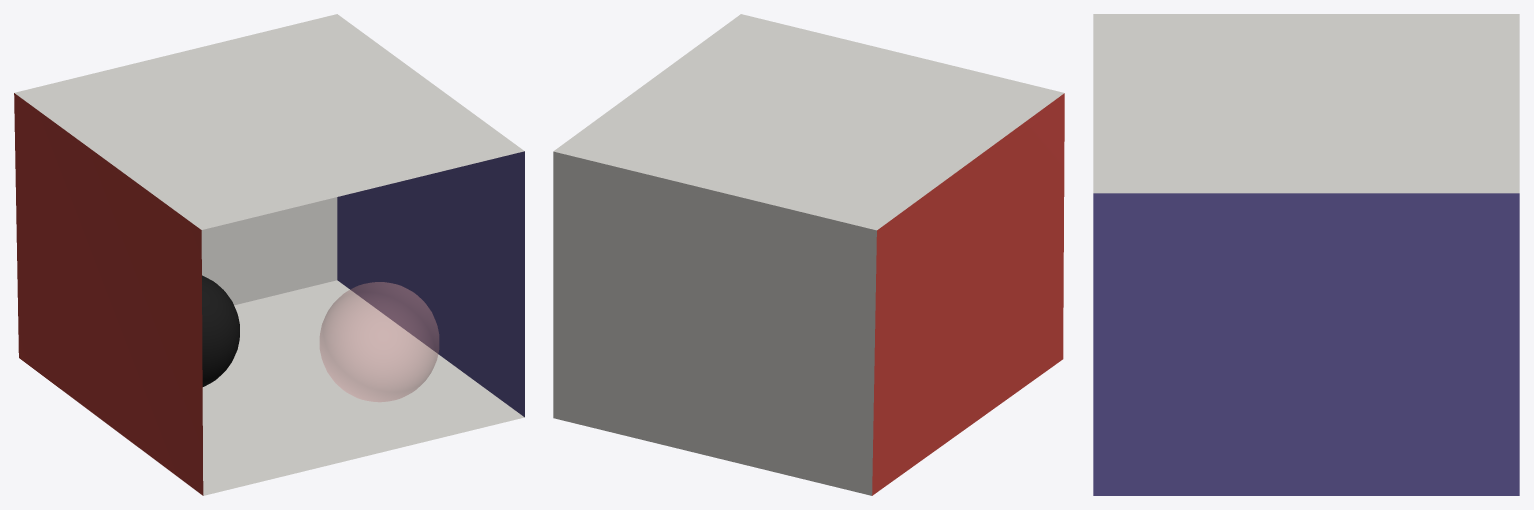
File: Cornell-Box-Spheres.gltf
3 renders of one model, left to right at view 1: azimuth 30°, elevation 25°; view 2: azimuth 150°, elevation 25°; view 3: azimuth 270°, elevation 25°, orthographic. The views are drawn at different scales.
Visible parts, largest first — view 1: CornellBox-Sphere; view 2: CornellBox-Sphere; view 3: CornellBox-Sphere.
Part boxes in pixels (x1,y1,x2,y2): CornellBox-Sphere: (14,14,524,495); CornellBox-Sphere: (553,14,1064,495); CornellBox-Sphere: (1093,14,1519,495).
Size of the model in its own units: 2.02 by 1.59 by 2.03.
